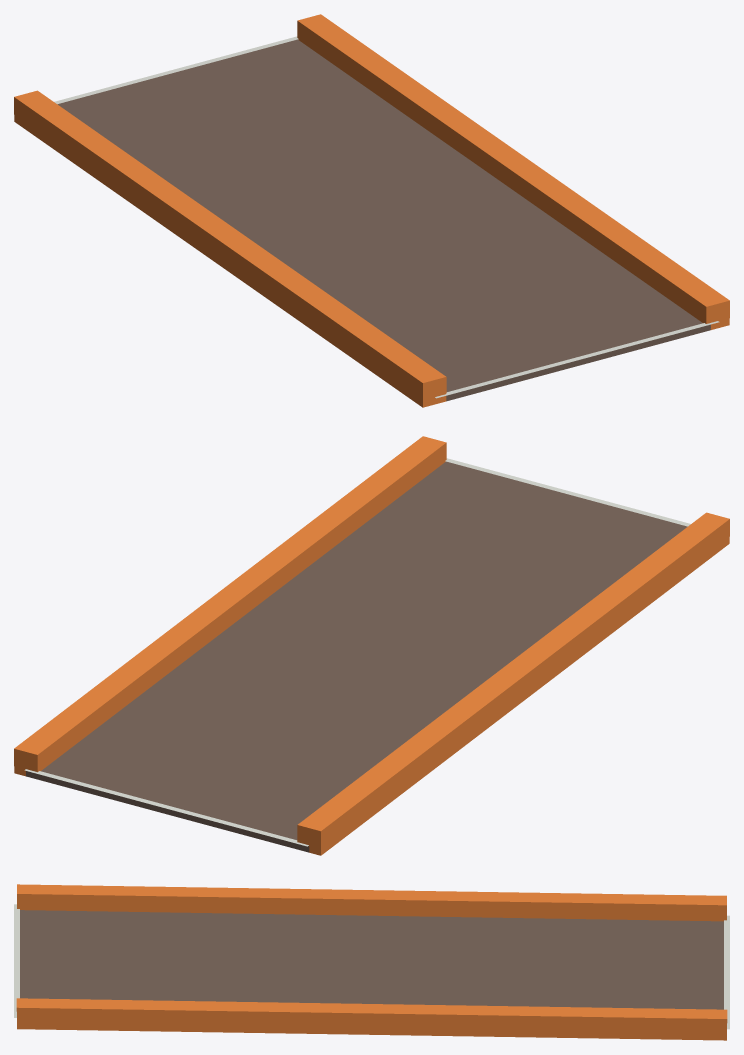
File: SM_MP_Film_B_5_0.fbx
3 views of the same model, one above another, from view 1: azimuth 30°, elevation 25°; view 2: azimuth 150°, elevation 25°; view 3: azimuth 270°, elevation 25° (orthographic). The views are drawn at different scales.
Parts seen in each view (by area): view 1: SM_MP_Film_B_5_0; view 2: SM_MP_Film_B_5_0; view 3: SM_MP_Film_B_5_0.
Part boxes in pixels (x1,y1,x2,y2): SM_MP_Film_B_5_0: (14, 14, 729, 407); SM_MP_Film_B_5_0: (14, 436, 729, 855); SM_MP_Film_B_5_0: (14, 884, 729, 1040).
Size of what is drawn, in the model's own units: 260 by 605 by 36.89.
